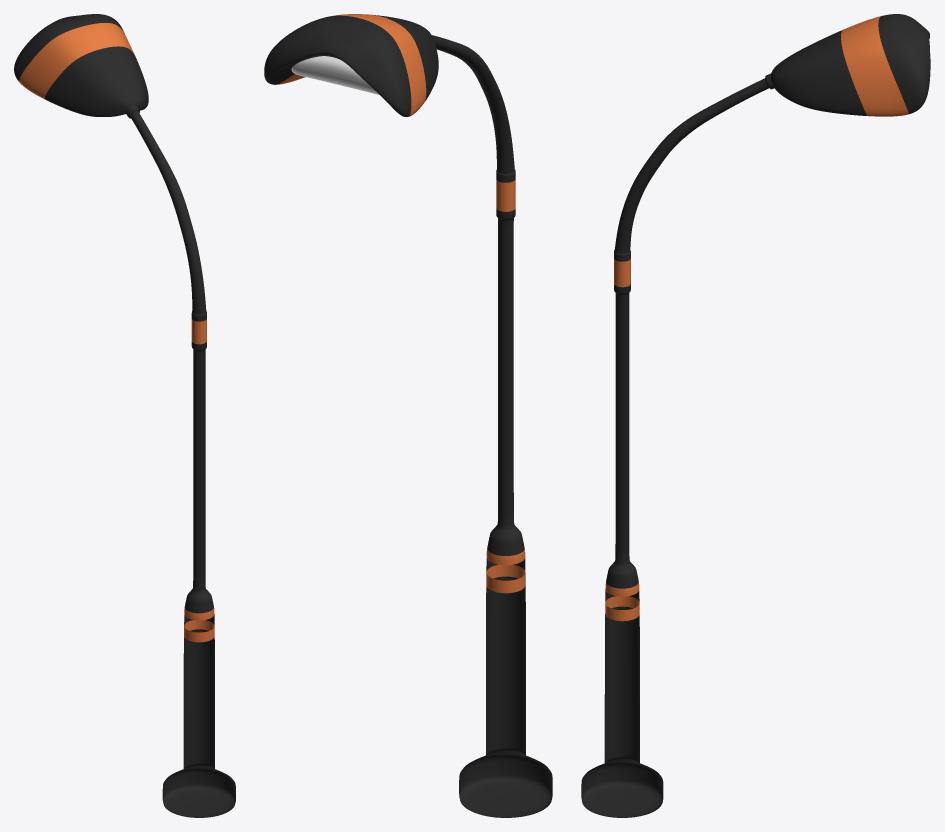
File: player_lightpost_v2.fbx
The picture shows the model from 3 angles, left to right: view 1: azimuth 30°, elevation 25°; view 2: azimuth 150°, elevation 25°; view 3: azimuth 270°, elevation 25°; orthographic projection. The views are drawn at different scales.
Visible parts, largest first — view 1: 圆环, 圆环.001; view 2: 圆环, 圆环.001, 立方体; view 3: 圆环, 圆环.001.
Part boxes in pixels (left/top/right/bottom): 圆环: left=126, top=105, right=235, bottom=817; 圆环.001: left=14, top=14, right=148, bottom=116; 圆环: left=431, top=35, right=552, bottom=817; 圆环.001: left=264, top=14, right=438, bottom=116; 立方体: left=291, top=56, right=379, bottom=94; 圆环: left=581, top=73, right=774, bottom=817; 圆环.001: left=770, top=14, right=930, bottom=116.
Bounding box in the file's own units: 44.13 × 268 × 109.
